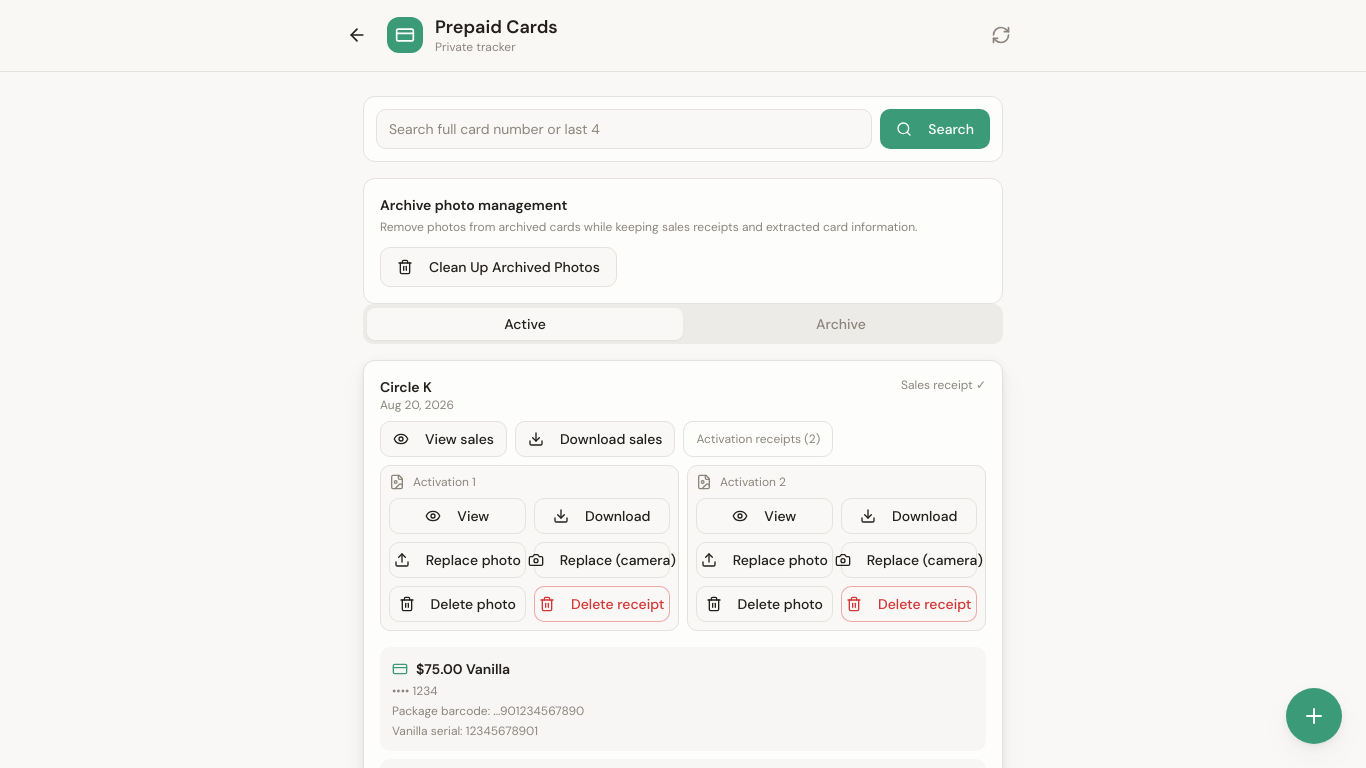
Test: PrepaidCards › replaces the package card image through the upload pipeline
Expected: the heading "Circle K" is shown, [380,378,432,396]
Click the button "$75.00 Vanilla" at (443, 668), box [392,658,974,738]
(page scrolled)
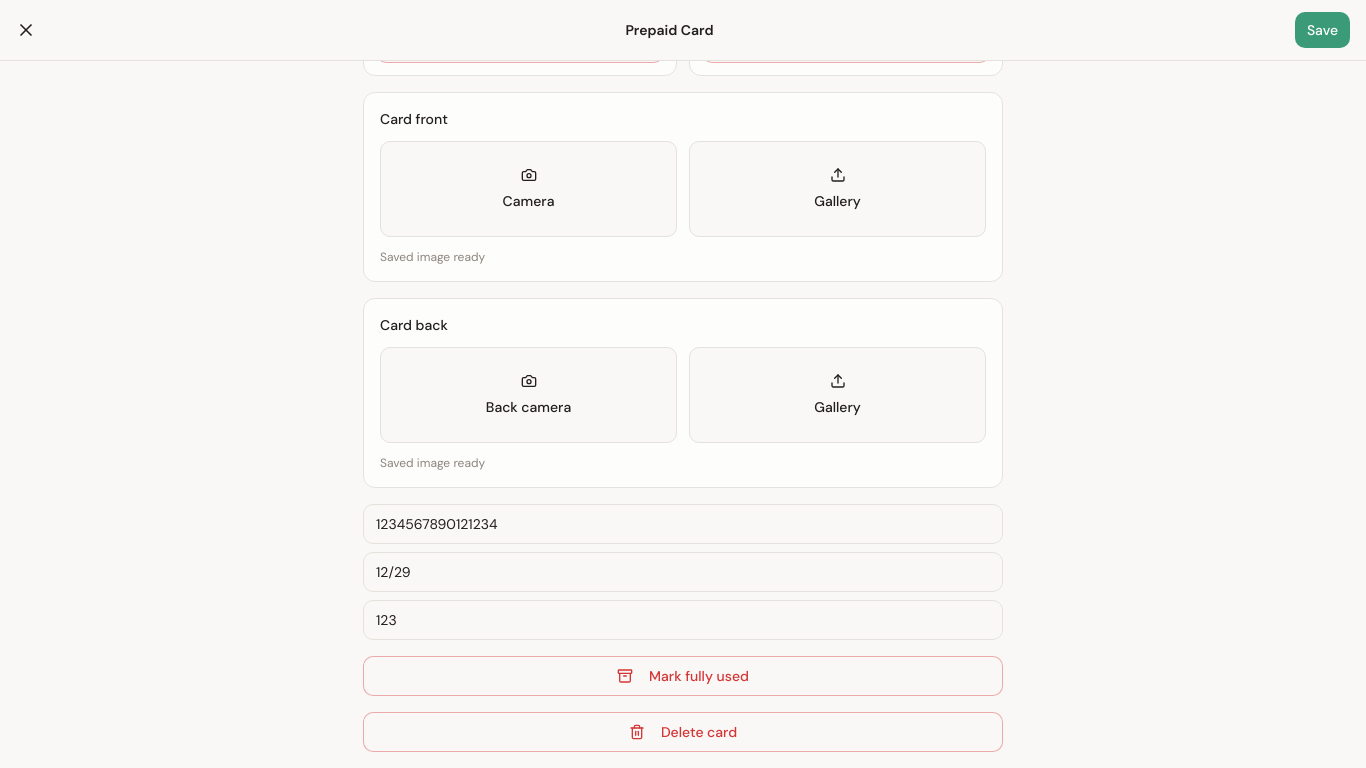
Result: the 1st field showing "1234567890121234" is shown at [363,504,1003,544]
